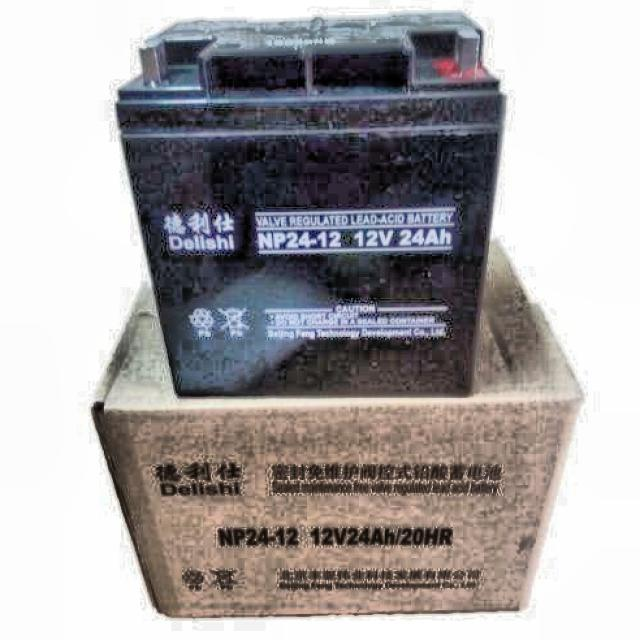Non-Valuable Waste - Batteries: (118, 13, 504, 396)
Valuable Waste - Cardboard: (93, 243, 582, 617)
